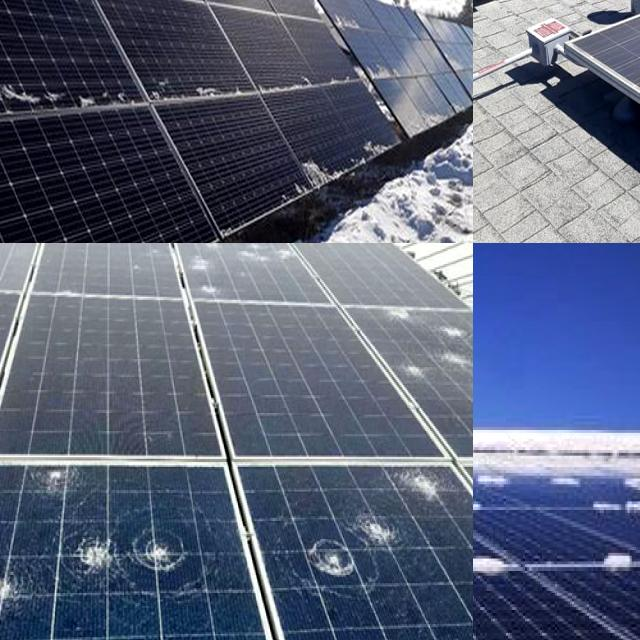dust: (473, 0, 636, 49)
hotspot: (369, 295, 473, 464), (189, 243, 315, 300), (280, 522, 368, 594), (60, 513, 141, 576), (131, 520, 202, 586), (30, 458, 94, 506), (398, 462, 453, 516), (0, 558, 38, 627), (356, 504, 408, 550)
panel: (0, 68, 133, 120), (278, 140, 398, 196), (473, 411, 562, 469), (563, 407, 640, 465), (473, 541, 532, 603), (148, 80, 258, 112), (473, 408, 542, 457), (585, 455, 640, 515), (473, 414, 540, 455), (266, 72, 346, 105), (473, 487, 539, 522), (404, 102, 454, 144), (473, 482, 518, 526), (473, 545, 516, 590), (600, 545, 640, 590), (366, 56, 412, 90), (473, 460, 512, 500), (473, 477, 500, 531), (325, 6, 373, 36), (473, 448, 496, 487), (451, 47, 473, 84), (473, 458, 484, 500)
